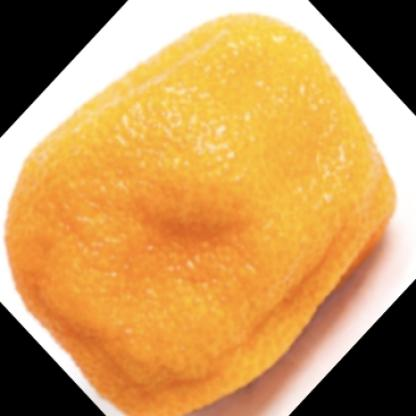rotten: (8, 16, 398, 416)
